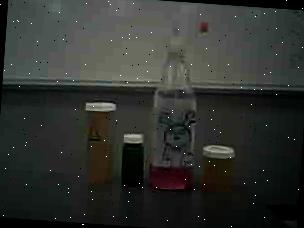Bottle A: (74, 90, 122, 190)
Bottle B: (198, 136, 241, 204)
Bottle C: (116, 122, 154, 194)
hazard: (148, 11, 212, 196)
